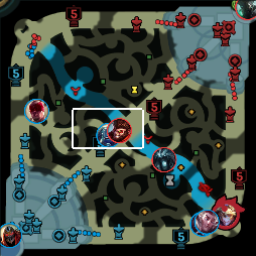ezreal: (213, 201, 237, 228)
fizz: (94, 123, 118, 147)
karthus: (151, 146, 175, 172)
leesin: (23, 99, 48, 123)
monkeyking: (106, 117, 131, 143)
mordekaiser: (235, 1, 256, 20)
rakan: (194, 209, 217, 233)
zed: (1, 222, 20, 247)
